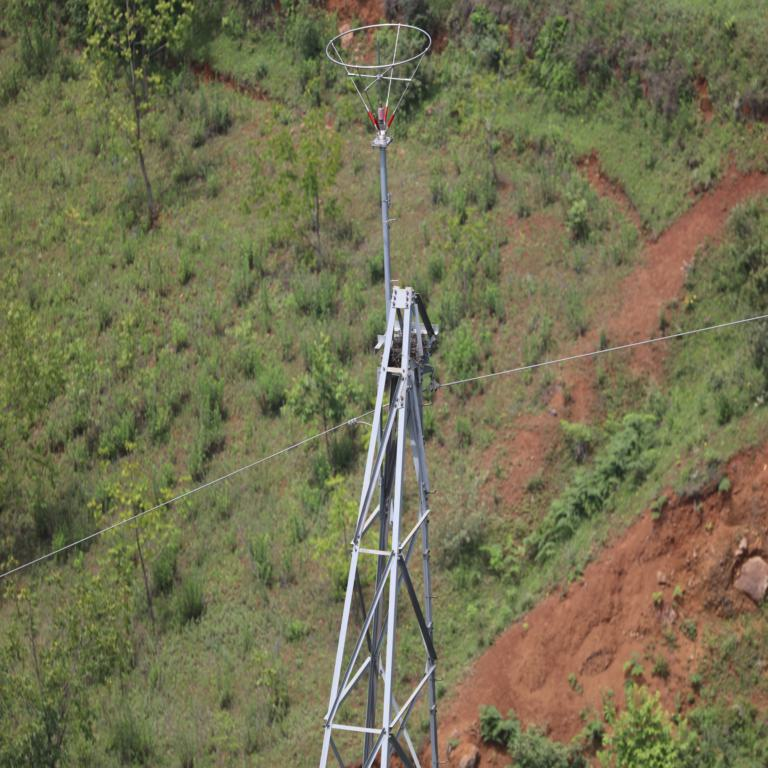nest: (388, 339, 422, 391)
